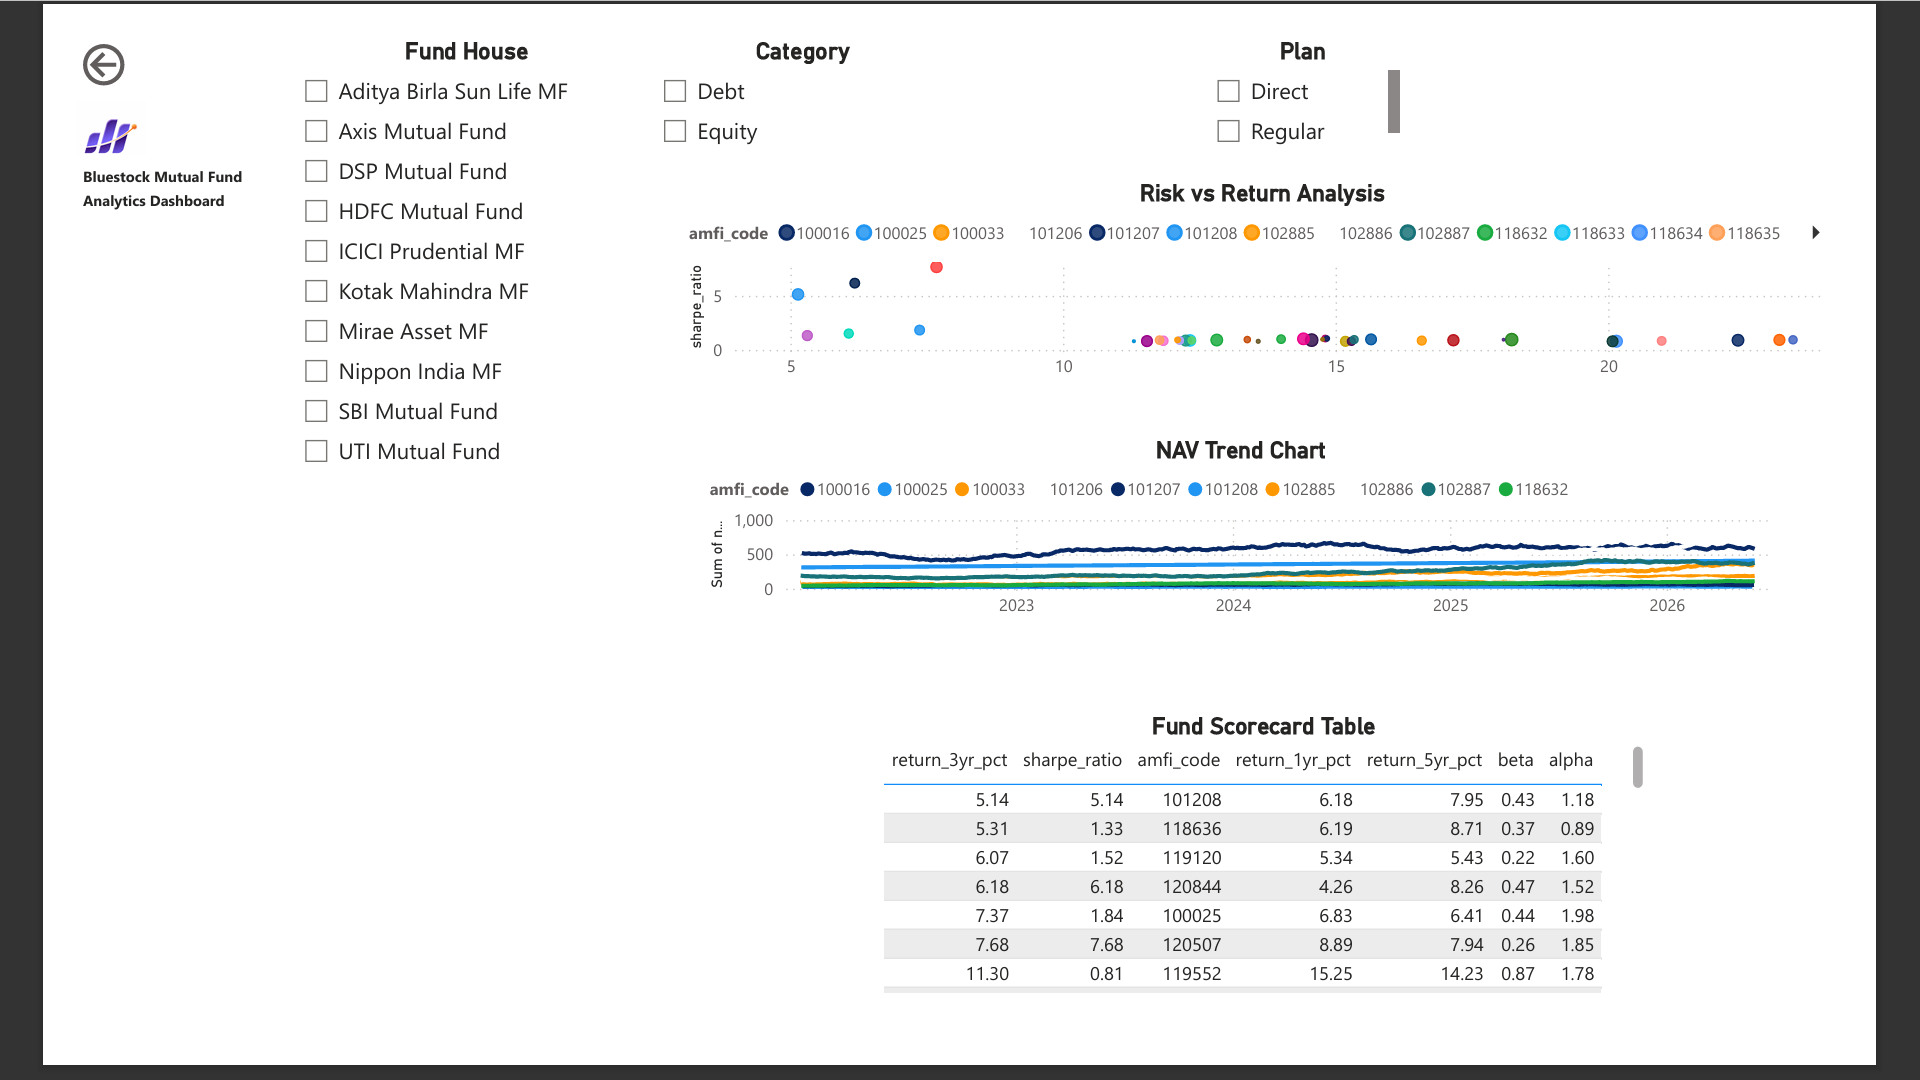

Layout of this report page (visuals, bound fields, positions):
{"tool":"powerbi","page":{"name":"Fund Performance","canvas":[1280,720],"ordinal":1},"visuals":[{"type":"scatterChart","title":"Risk vs Return Analysis","fields":{"X":["scheme_performance_clean.return_3yr_pct"],"Y":["scheme_performance_clean.sharpe_ratio"],"Series":["scheme_performance_clean.amfi_code"],"Size":["Sum(scheme_performance_clean.aum_crore)"]},"box":[438.6,102.9,841.4,154.3],"z":0},{"type":"tableEx","title":"Fund Scorecard Table","fields":{"Values":["scheme_performance_clean.return_3yr_pct","scheme_performance_clean.sharpe_ratio","scheme_performance_clean.amfi_code","scheme_performance_clean.return_1yr_pct","scheme_performance_clean.return_5yr_pct","scheme_performance_clean.beta","scheme_performance_clean.alpha"]},"box":[580,488.6,561.4,208.6],"z":1000},{"type":"lineChart","title":"NAV Trend Chart","fields":{"Category":["nav_history_clean.date"],"Y":["Sum(nav_history_clean.nav)"],"Series":["nav_history_clean.amfi_code"]},"box":[454.3,288.6,780,141.4],"z":2000},{"type":"slicer","title":"Fund House","fields":{"Values":["fund_master_clean.fund_house"]},"box":[152.9,0,260,360],"z":3000},{"type":"slicer","title":"Category","fields":{"Values":["fund_master_clean.category"]},"box":[413.3,0,226.7,113.3],"z":4000},{"type":"slicer","title":"Plan","fields":{"Values":["fund_master_clean.plan"]},"box":[814,0,150,86],"z":5000},{"type":"actionButton","box":[0,0,100,40],"z":5001},{"type":"image","box":[0,40,50,62.9],"z":5002},{"type":"textbox","box":[0,85.7,150,55.7],"z":5003}]}

Visuals, with their boxes in screenshot pixels (x1, y1, x2, y2), scaled from the page's 1280x720 canvas onto the 1920x1080 screenshot:
"Risk vs Return Analysis" scatterChart: <bbox>658, 154, 1919, 386</bbox>
"Fund Scorecard Table" tableEx: <bbox>870, 733, 1712, 1046</bbox>
"NAV Trend Chart" lineChart: <bbox>681, 433, 1851, 645</bbox>
"Fund House" slicer: <bbox>229, 0, 619, 540</bbox>
"Category" slicer: <bbox>620, 0, 960, 170</bbox>
"Plan" slicer: <bbox>1221, 0, 1446, 129</bbox>
actionButton: <bbox>0, 0, 150, 60</bbox>
image: <bbox>0, 60, 75, 154</bbox>
textbox: <bbox>0, 129, 225, 212</bbox>
